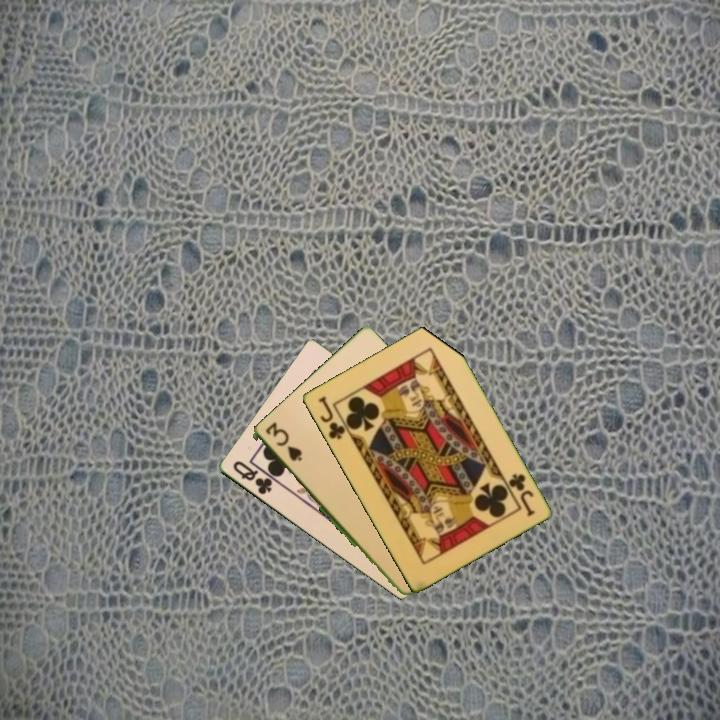3s: (261, 420, 305, 464)
Jc: (314, 392, 348, 443), (504, 470, 537, 519)
Qc: (229, 457, 275, 498)
